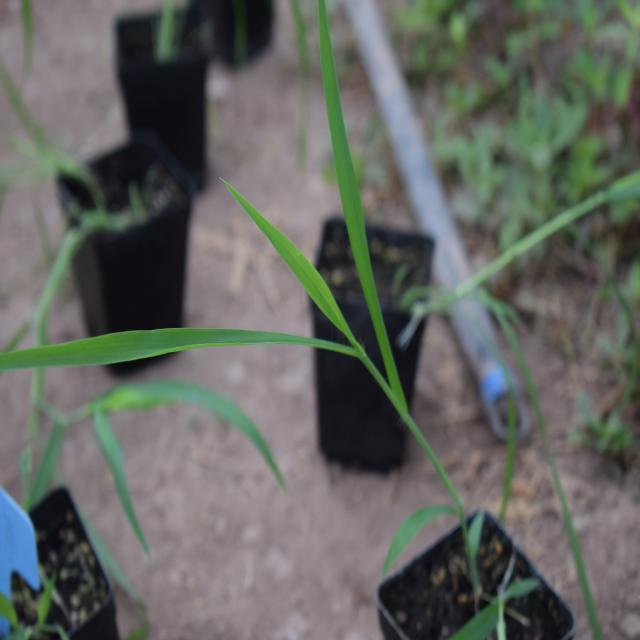crabgrass: (18, 104, 472, 492)
